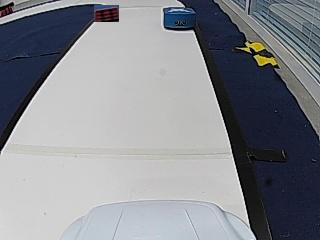prop: (163, 7, 196, 31)
